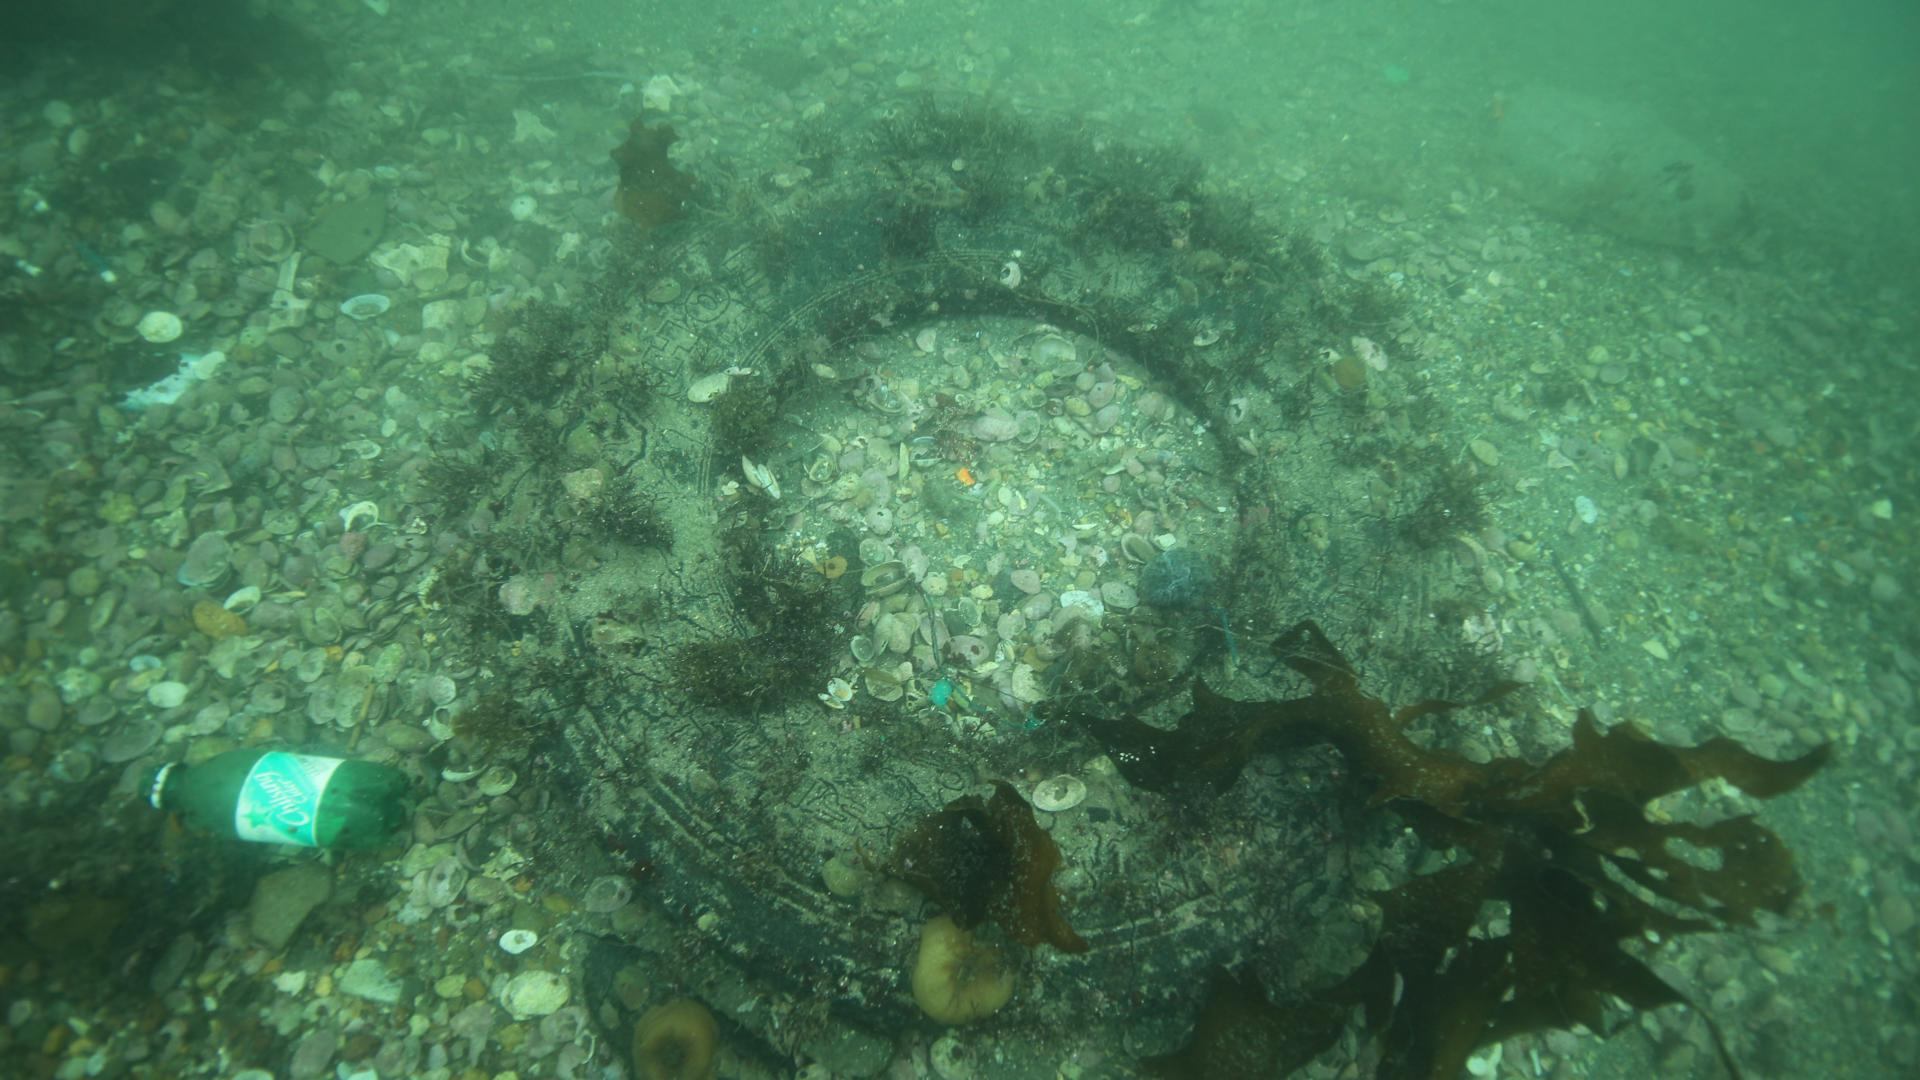tire: (468, 117, 1497, 1038)
